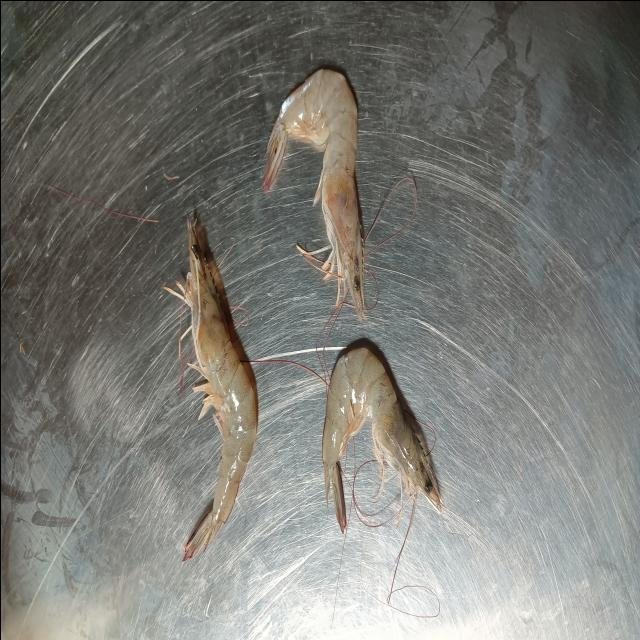shrimp: (181, 217, 256, 558), (261, 69, 362, 319), (321, 346, 441, 532)
